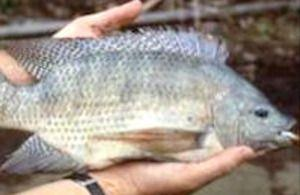Tilapia: (2, 28, 299, 178)
